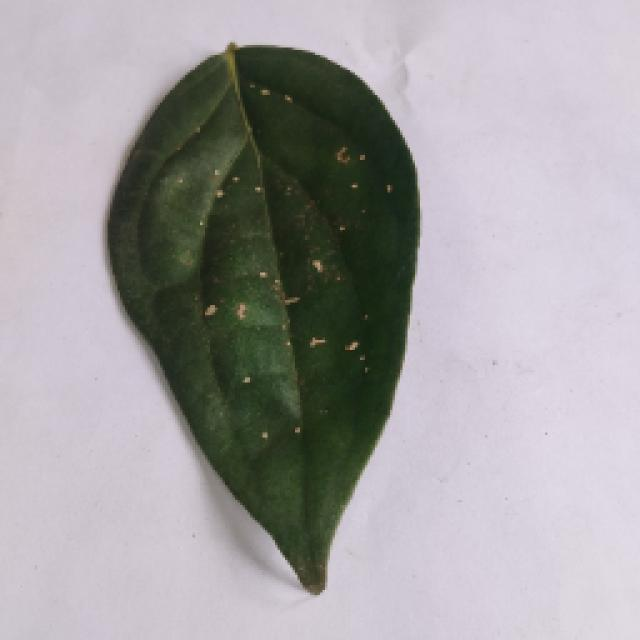pollu-disease: (87, 40, 435, 592)
